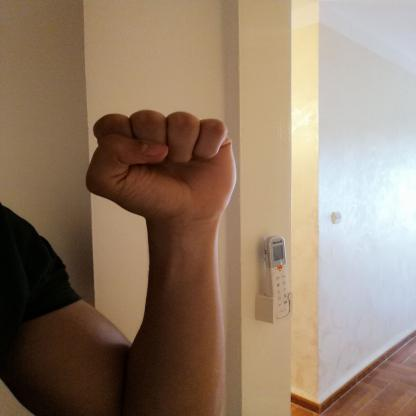SAD: (68, 101, 245, 233)
